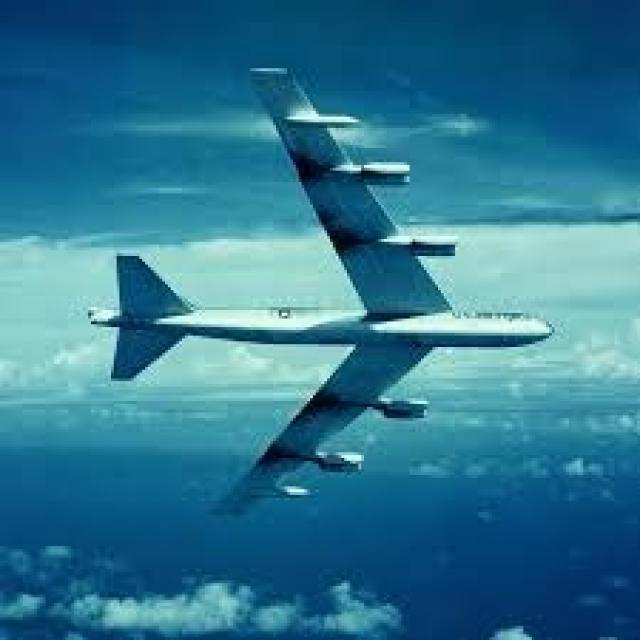B52: (70, 61, 575, 552)
